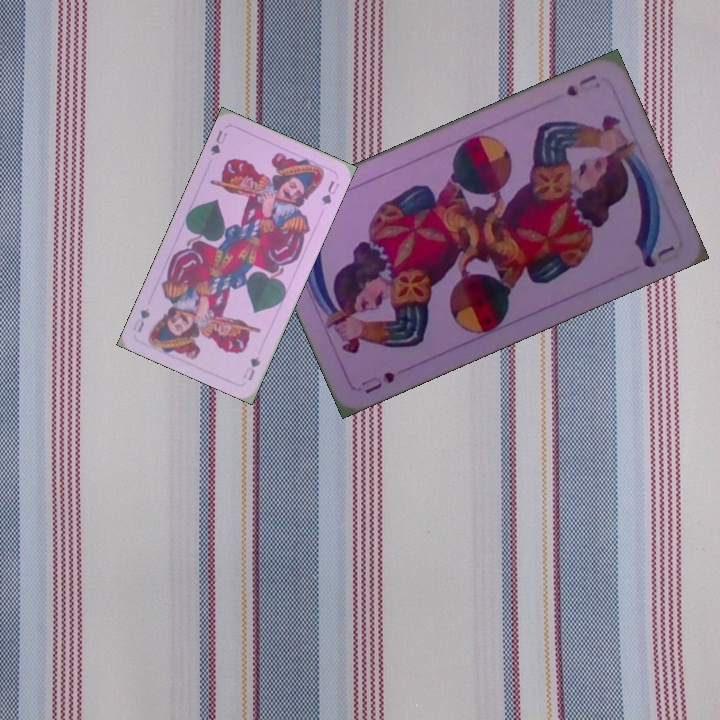GU: (239, 352, 263, 383), (207, 126, 230, 158)
SU: (357, 367, 398, 397), (562, 70, 599, 99)
